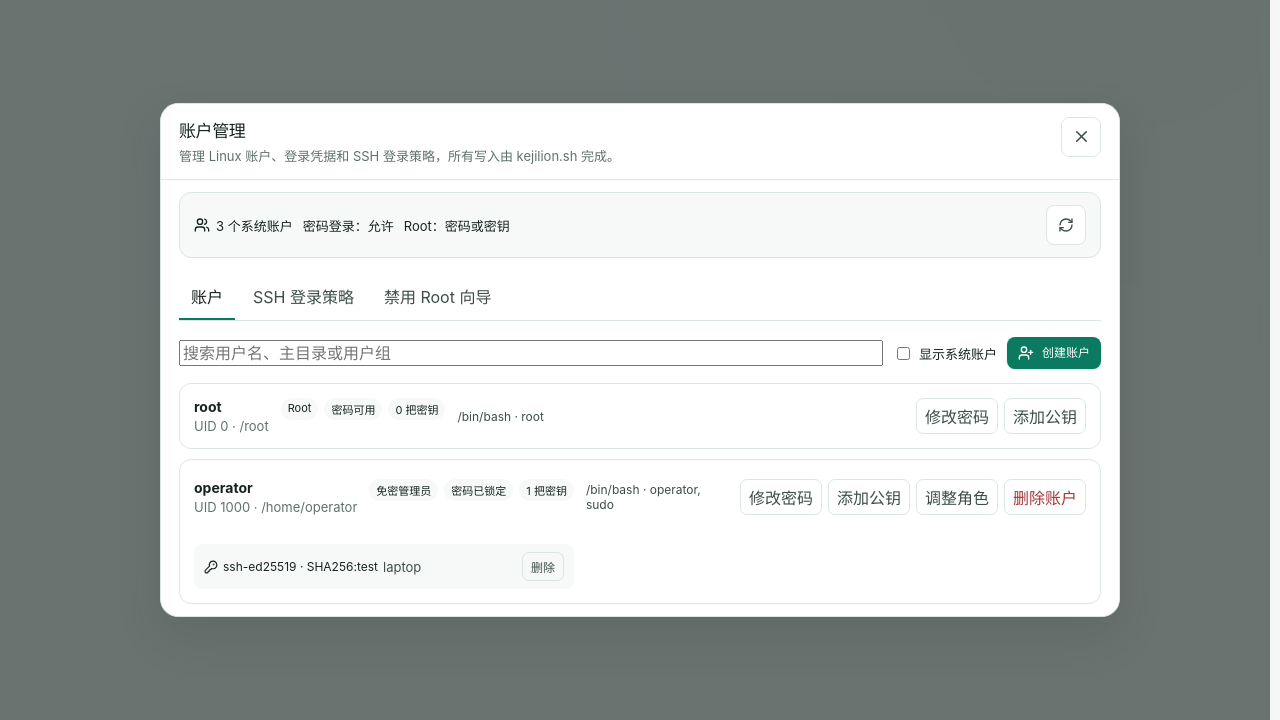
Scenario: AccountManagementDialog › shows human login accounts first and keeps system accounts optional
Expected: the text "daemon" is not shown
What coordinates should you click on to do the following:
click the checkbox labelled "显示系统账户"
I would click on:
 (904, 353)
Its box is left=897, top=347, right=910, bottom=360.
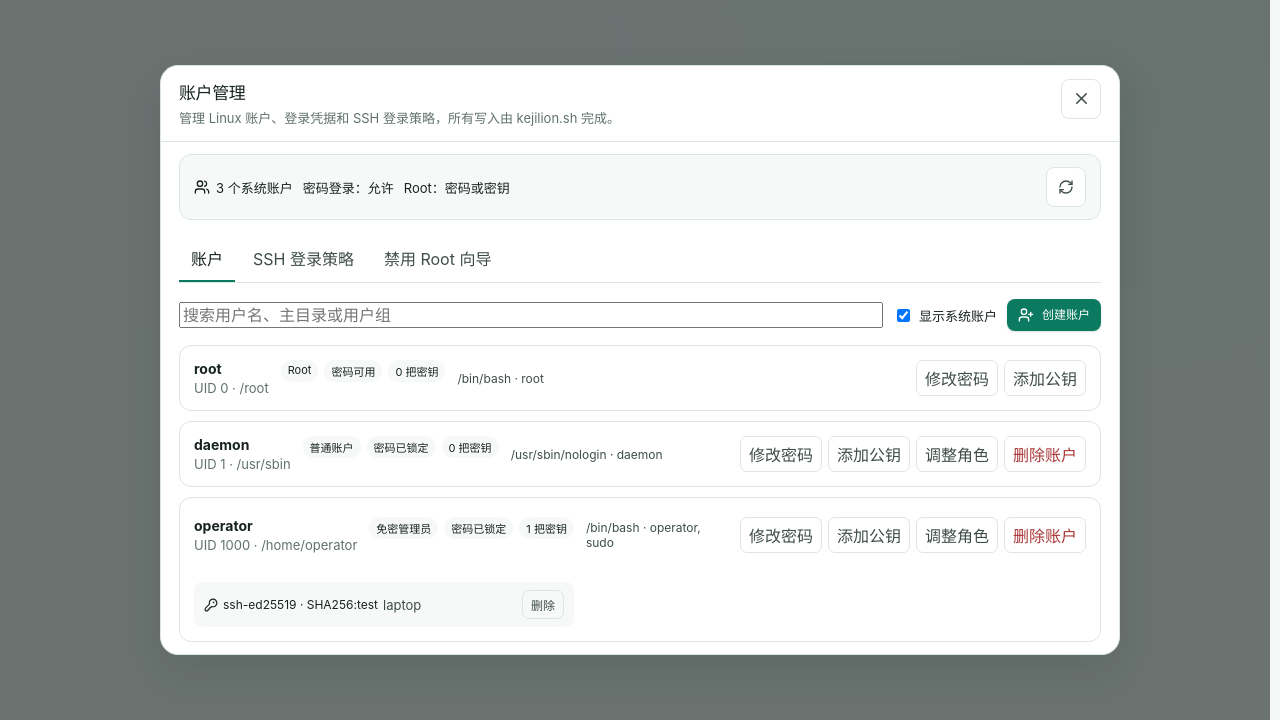
Now the text "daemon" is shown, box left=194, top=436, right=249, bottom=453
